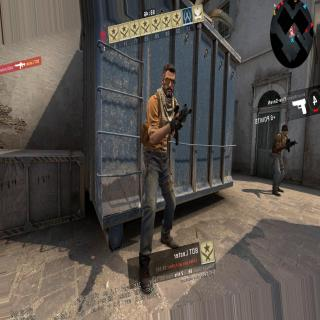T-Body: (138, 62, 181, 266), (270, 123, 292, 199)
T-Head: (162, 67, 174, 99), (282, 124, 287, 134)
